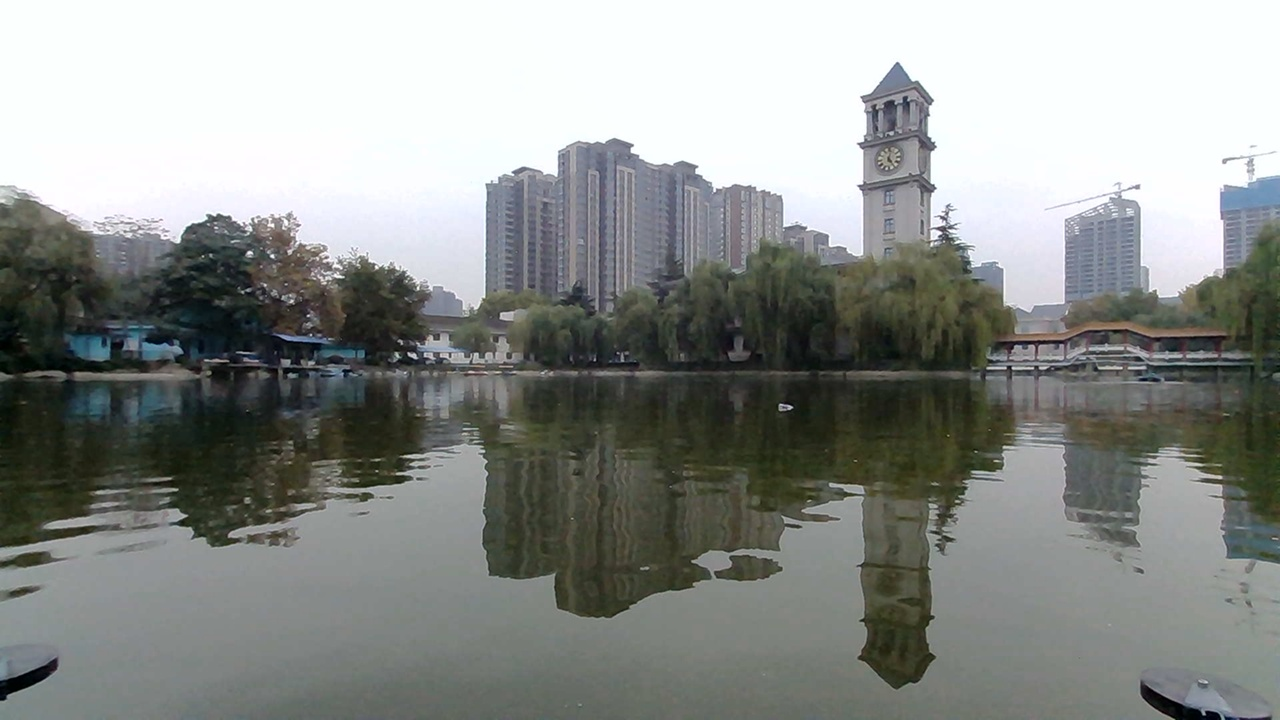bottle: (779, 397, 818, 427)
